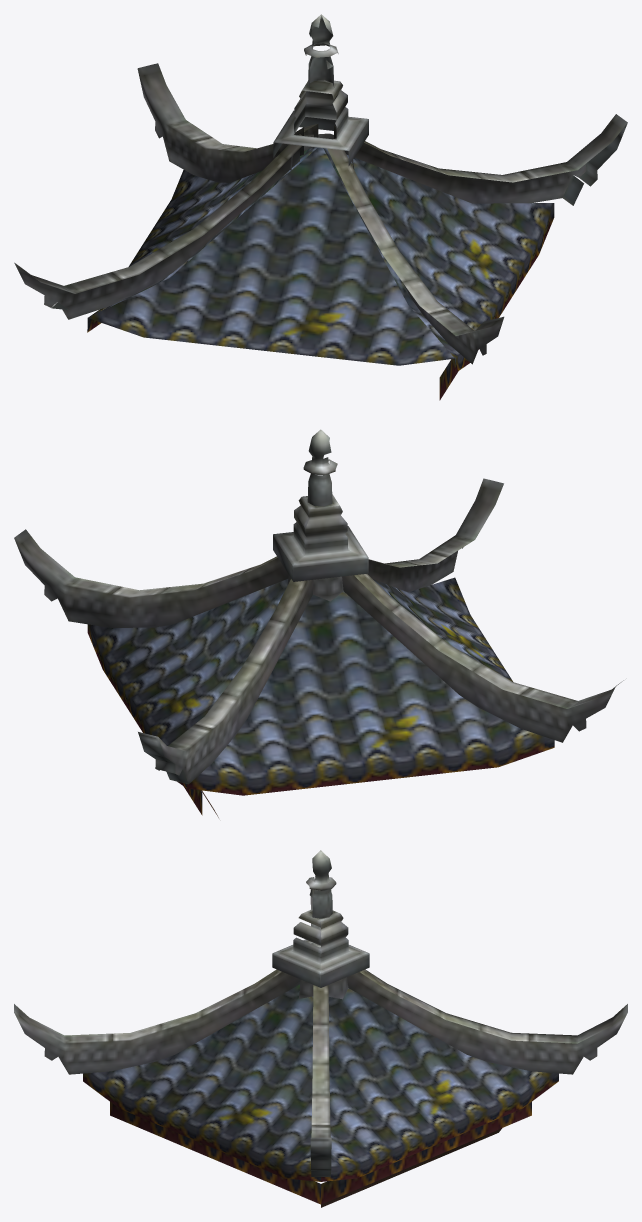
File: S2_Build_XSC016_H9.FBX
3 renders of one model, top to bottom at view 1: azimuth 30°, elevation 25°; view 2: azimuth 150°, elevation 25°; view 3: azimuth 270°, elevation 25°, orthographic. The views are drawn at different scales.
Parts seen in each view (by area): view 1: S2_Build_XSC016_H9; view 2: S2_Build_XSC016_H9; view 3: S2_Build_XSC016_H9.
Part boxes in pixels (x1,y1,x2,y2): S2_Build_XSC016_H9: (14,14,627,400); S2_Build_XSC016_H9: (14,429,623,817); S2_Build_XSC016_H9: (14,850,627,1207).
Size of the model in its own units: 3310 by 1675 by 3295.
